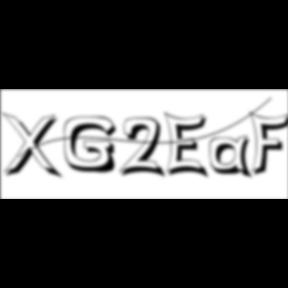2: (120, 117, 170, 181)
E: (164, 110, 214, 182)
G: (64, 116, 124, 176)
X: (1, 112, 65, 182)
a: (210, 135, 258, 182)
